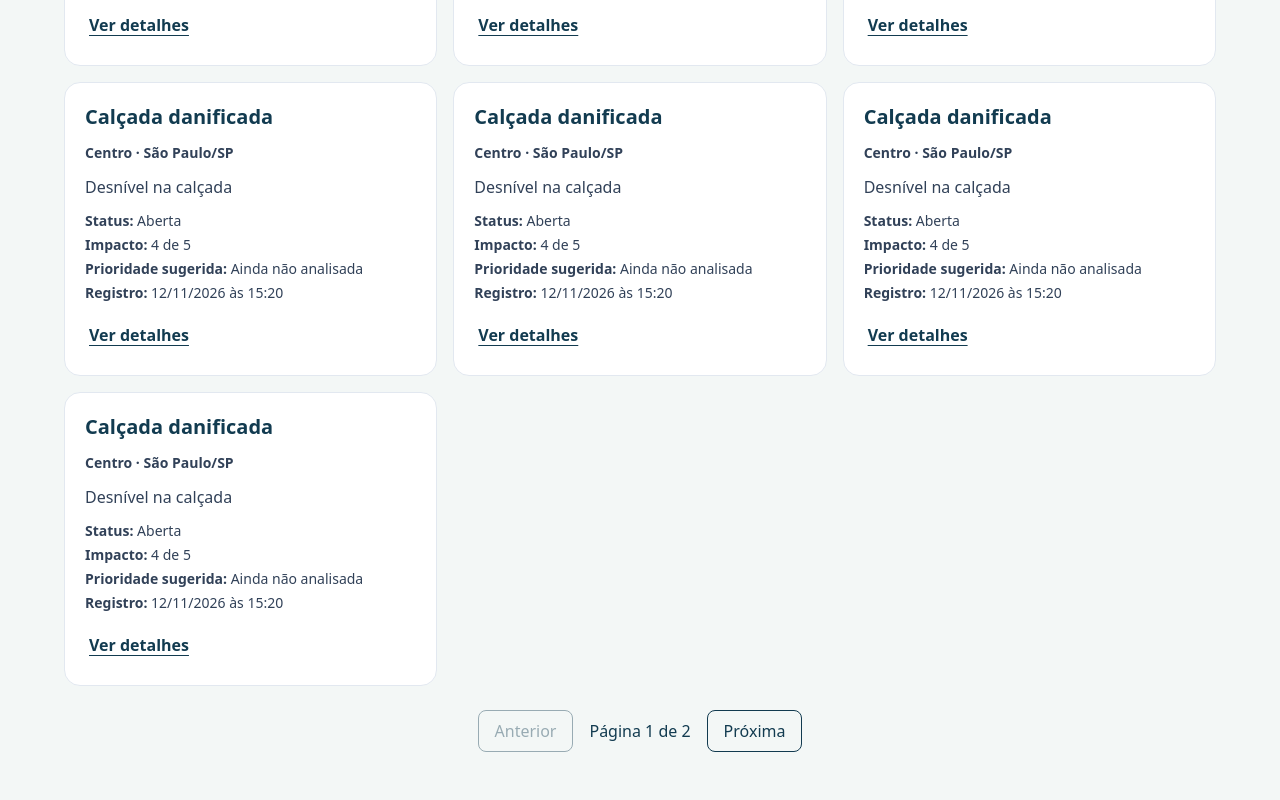
it: consulta de ocorrências › pagina dez resultados e retorna à primeira página ao filtrar
(page scrolled)
Click the button "Próxima" at point(755, 731), box [707, 710, 802, 752]
(page scrolled)
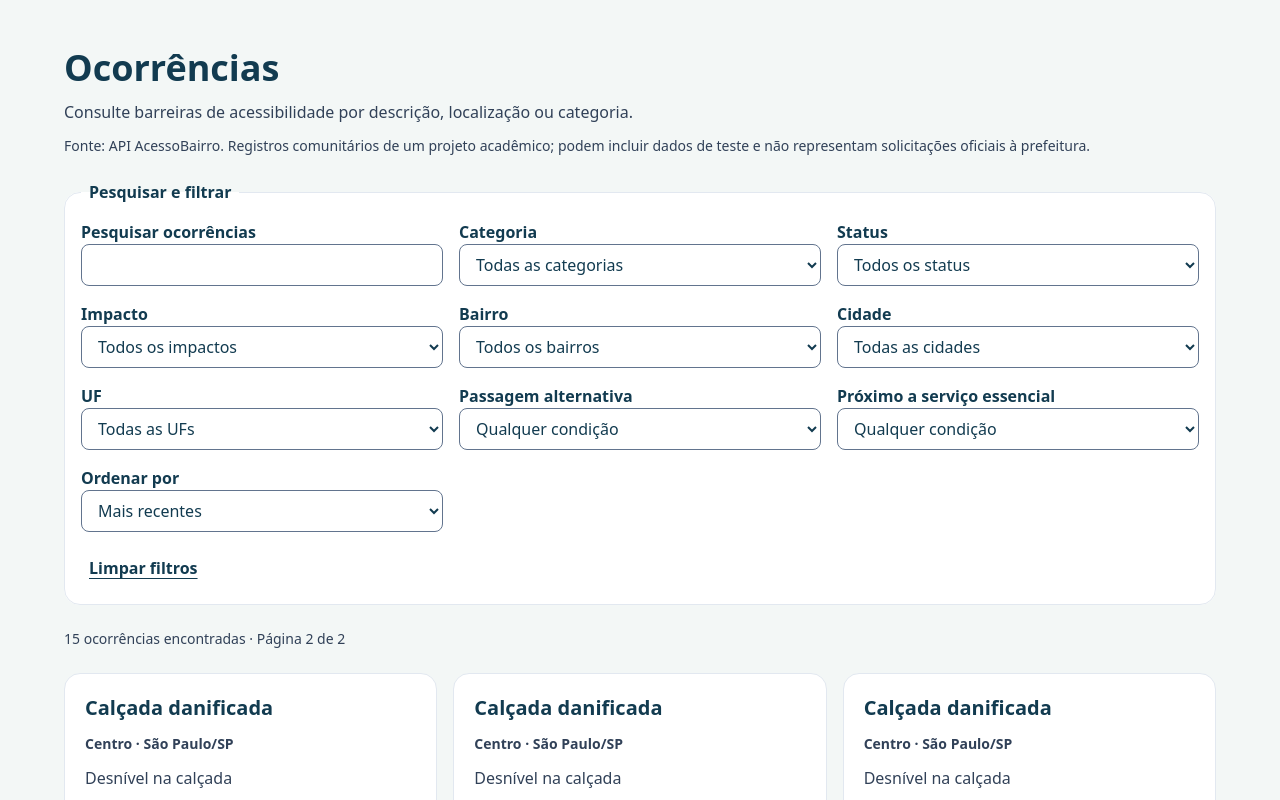
Select "4 de 5" in the dropdown labelled "Impacto" at point(262, 347), box [81, 326, 443, 368]
(page scrolled)
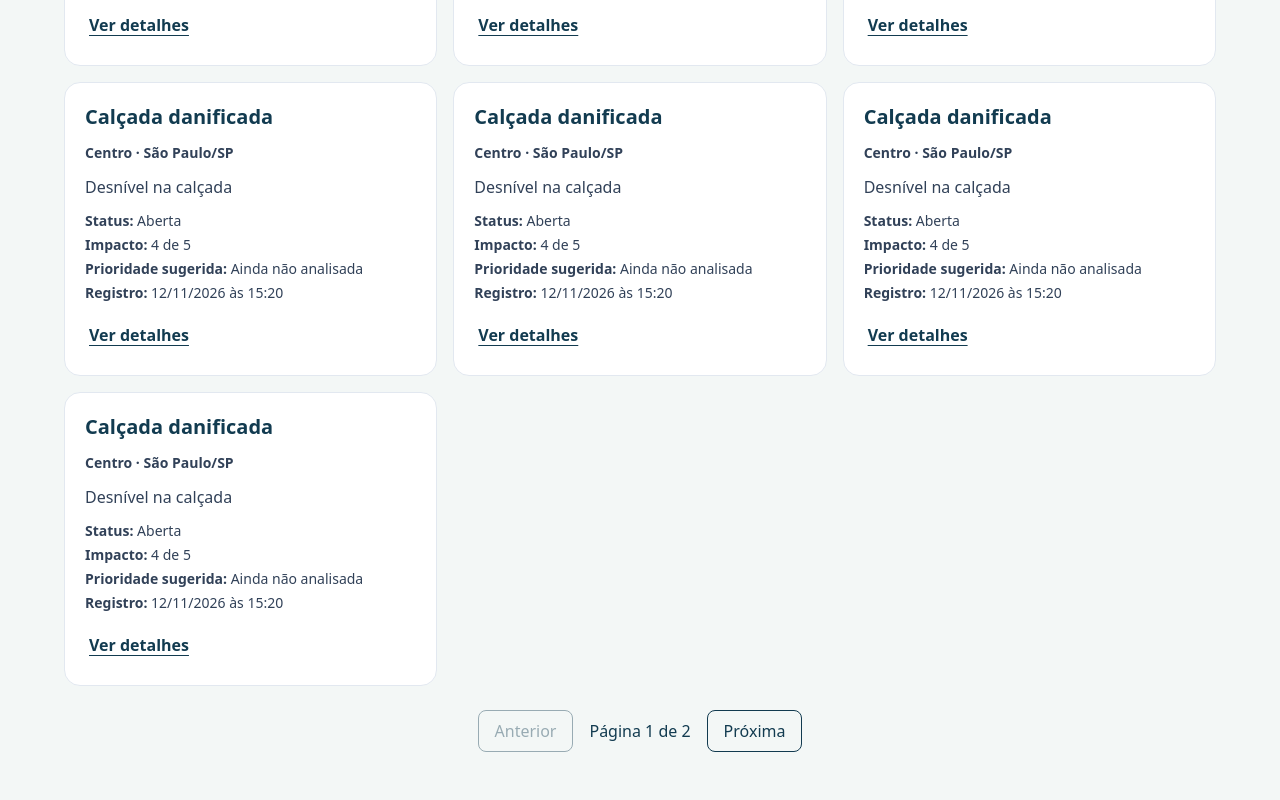
Check: the button "Anterior" is disabled, box [478, 710, 573, 752]
